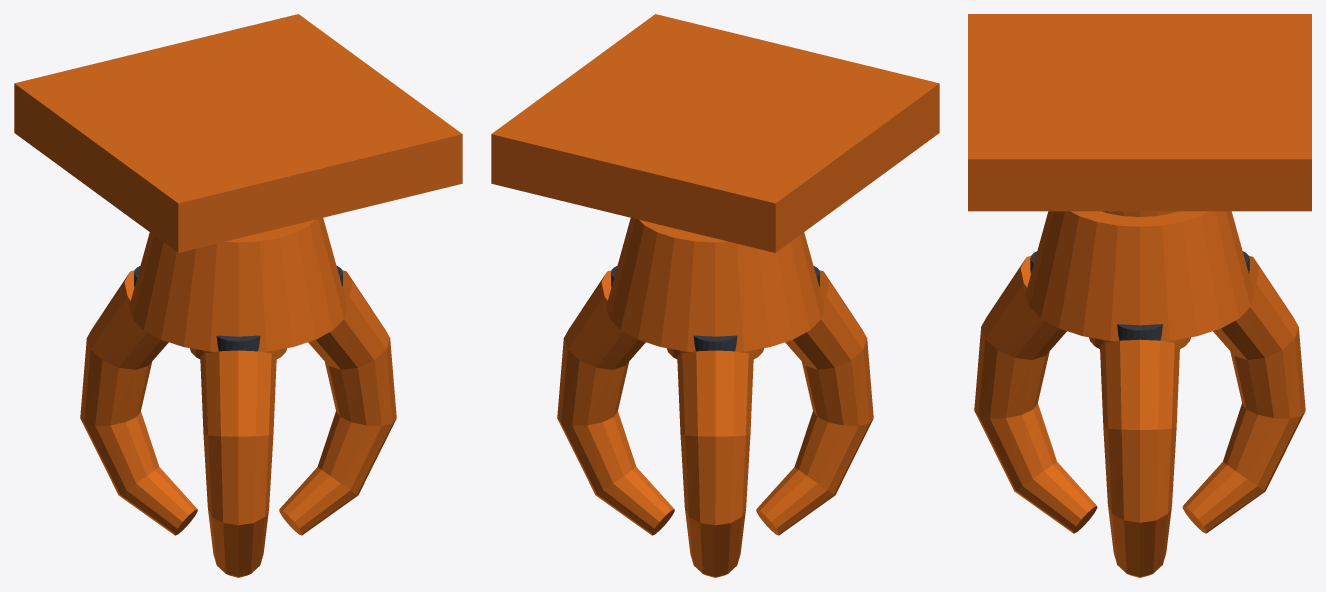
The model's file is claw.dae.
3 renders of one model, left to right at view 1: azimuth 30°, elevation 25°; view 2: azimuth 150°, elevation 25°; view 3: azimuth 270°, elevation 25°, orthographic. The views are drawn at different scales.
Parts seen in each view (by area): view 1: claw; view 2: claw; view 3: claw.
Boxes of the visible parts, bbox=[...] form: claw: bbox=[14, 14, 462, 577]; claw: bbox=[491, 14, 939, 577]; claw: bbox=[968, 14, 1311, 577].
Size of the model in its own units: 0.3127 by 0.3 by 0.4437.
